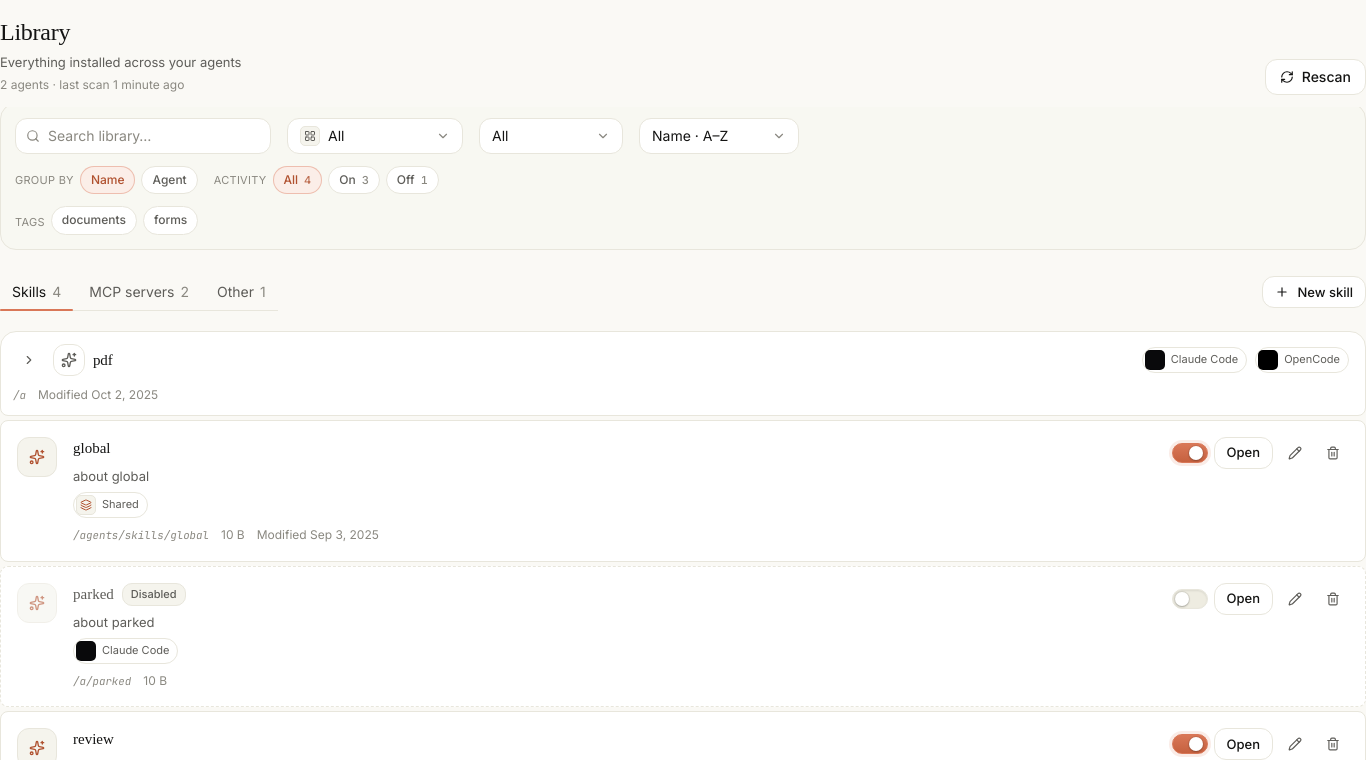
Test: LibraryPage › narrows a tab to the resources that are switched off
Expected: the heading "pdf" is shown, [93,350,112,369]
Expected: the button "All 4" is shown, [272,166,322,194]
Click the button "Off 1" at (412, 180), box [386,166,439,194]
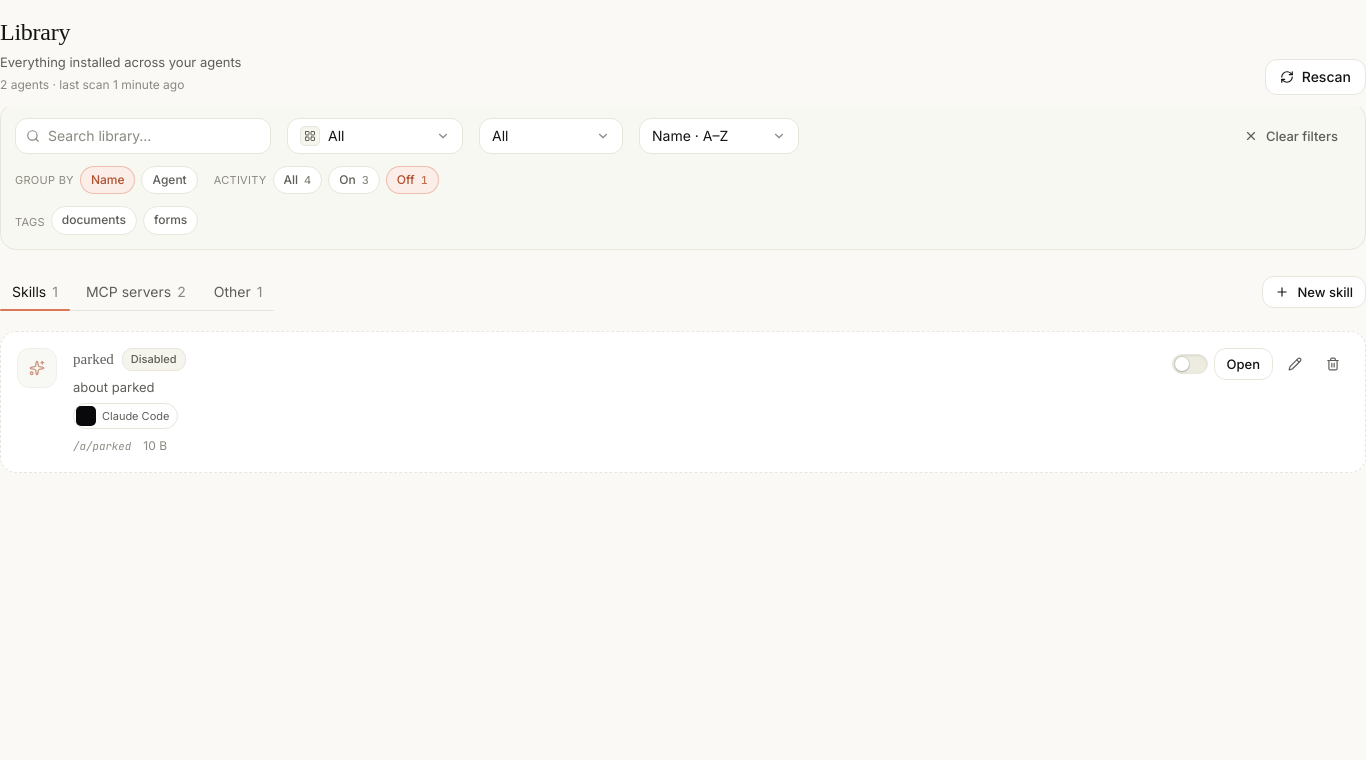
Expected: the button "parked" is shown, [17,348,186,453]
Expected: the button "pdf" is gone
Click the button "All 4" at (297, 180), box [272,166,322,194]
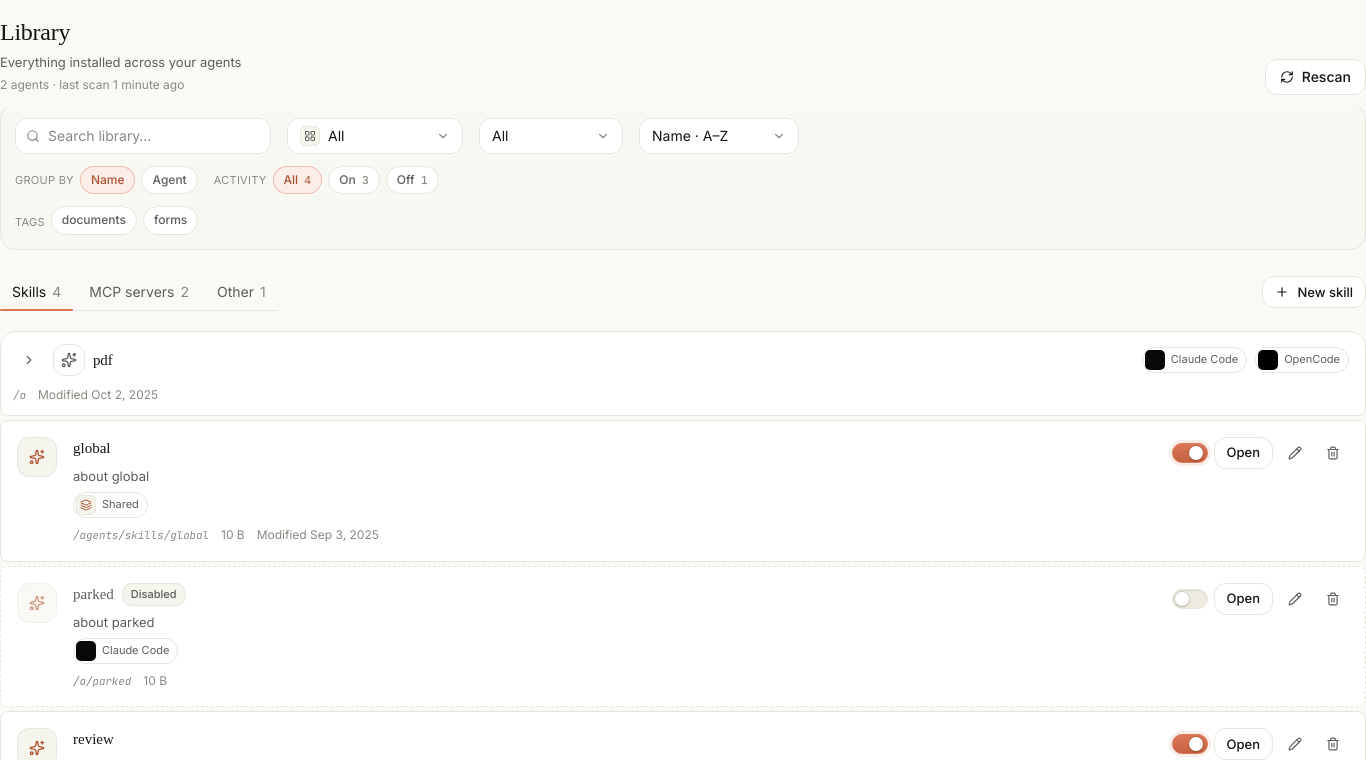
Expected: the button "parked" is shown, [17,582,186,688]
Expected: the heading "pdf" is shown, [93,350,112,369]
